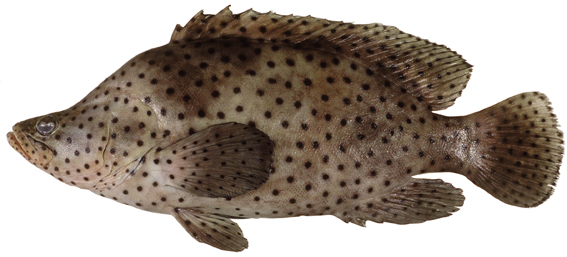fish: (8, 6, 565, 251)
